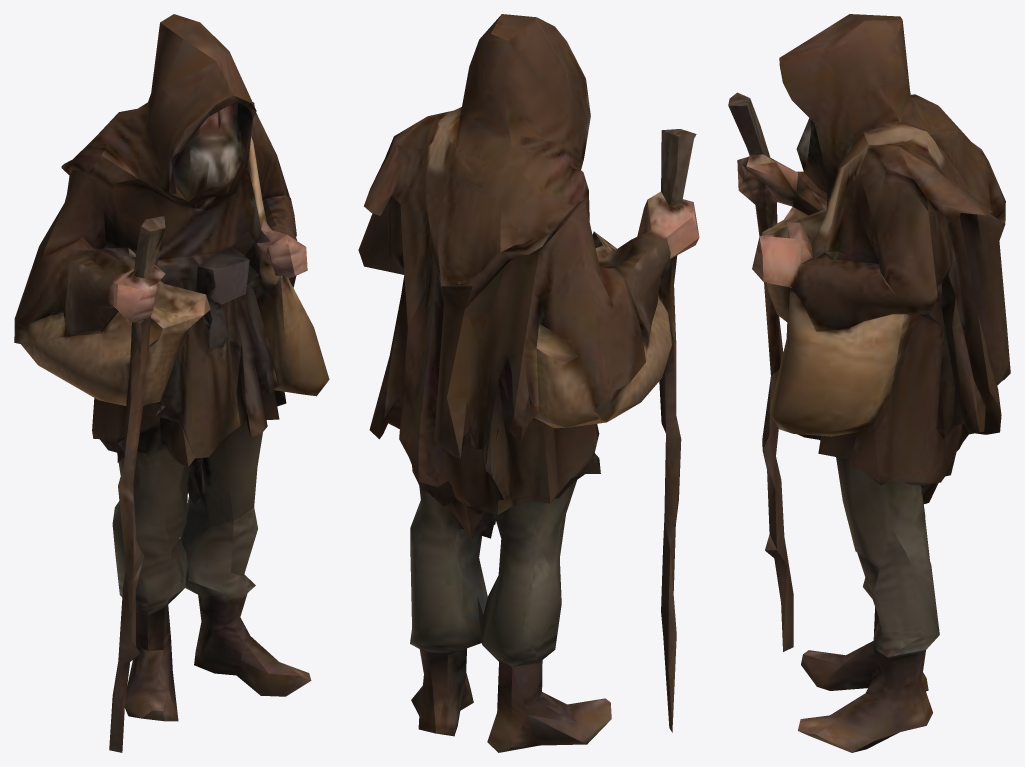
Rendered from hobo_hooded_beggar_lod1.glb.
3 renders of one model, left to right at view 1: azimuth 30°, elevation 25°; view 2: azimuth 150°, elevation 25°; view 3: azimuth 270°, elevation 25°, orthographic. The views are drawn at different scales.
Parts seen in each view (by area): view 1: hobo_hooded_beggar_lod1; view 2: hobo_hooded_beggar_lod1; view 3: hobo_hooded_beggar_lod1.
Boxes of the visible parts, left/top/right/bottom form: hobo_hooded_beggar_lod1: left=14, top=14, right=329, bottom=752; hobo_hooded_beggar_lod1: left=358, top=14, right=699, bottom=752; hobo_hooded_beggar_lod1: left=728, top=14, right=1010, bottom=752.
Bounding box in the file's own units: 0.685 × 1.7 × 0.6283.
Materials: 1 (1 with a texture image).
